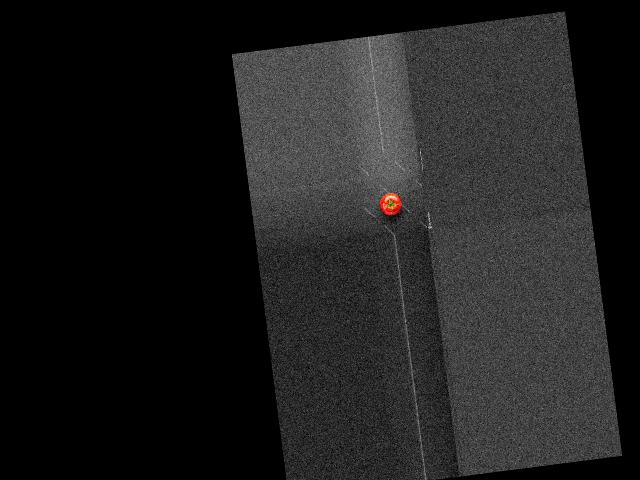tomato: (378, 191, 403, 216)
